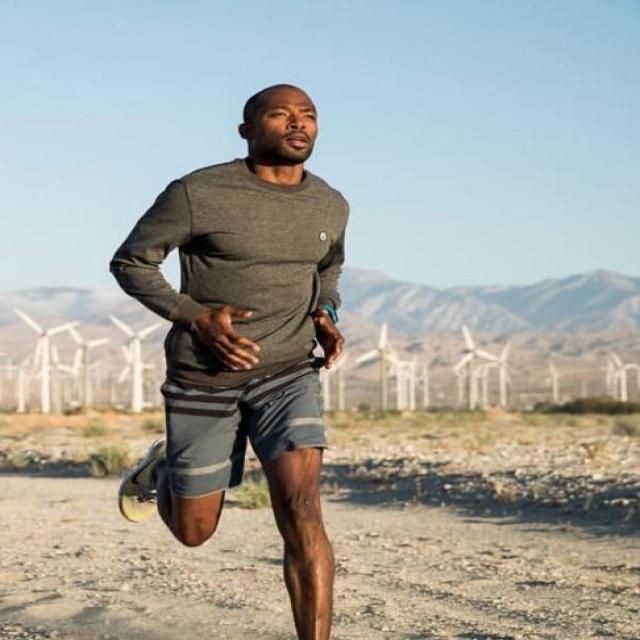human: (107, 77, 353, 640)
